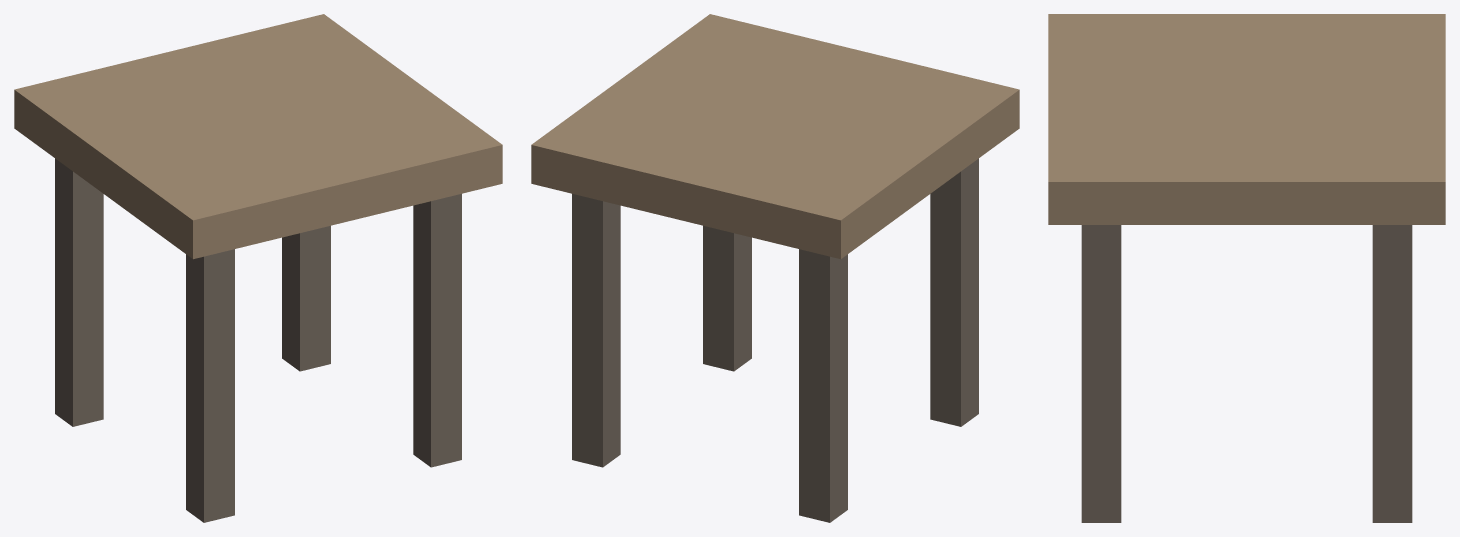
File: restaurant_table.glb
The picture shows the model from 3 angles, left to right: view 1: azimuth 30°, elevation 25°; view 2: azimuth 150°, elevation 25°; view 3: azimuth 270°, elevation 25°; orthographic projection. The views are drawn at different scales.
Parts seen in each view (by area): view 1: body; view 2: body; view 3: body.
Part boxes in pixels (bbox=[...]): body: bbox=[14, 14, 502, 522]; body: bbox=[531, 14, 1019, 522]; body: bbox=[1048, 14, 1445, 522].
Size of the model in its own units: 0.75 by 0.74 by 0.75.
